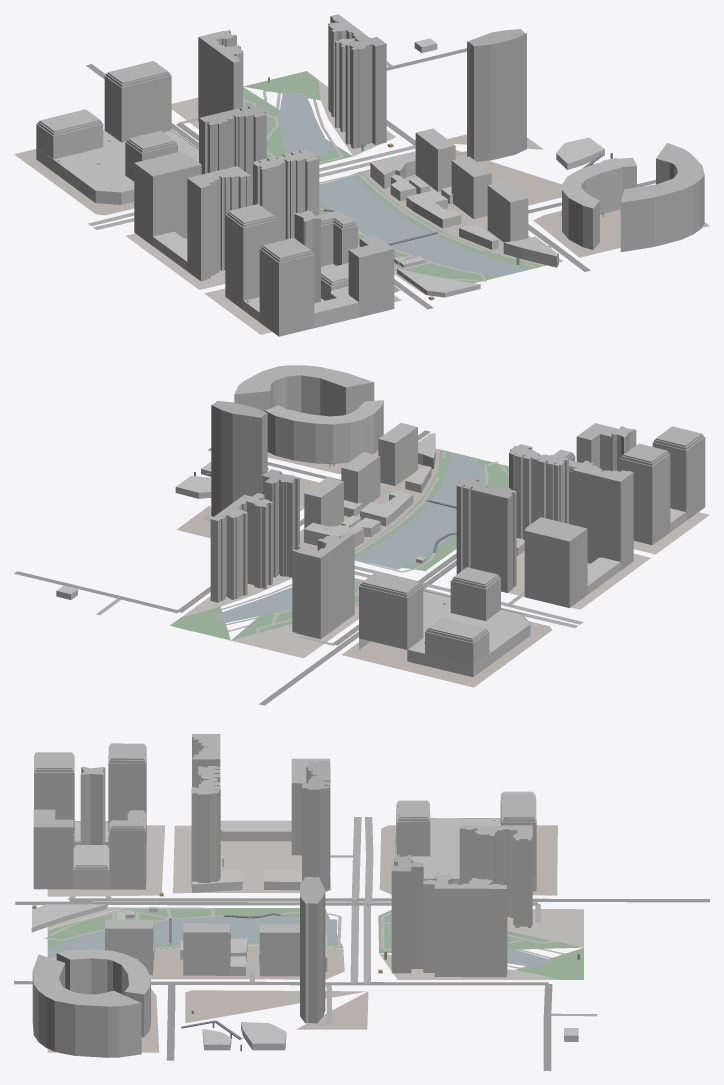
The picture shows the model from 3 angles, top to bottom: view 1: azimuth 30°, elevation 25°; view 2: azimuth 150°, elevation 25°; view 3: azimuth 270°, elevation 25°; orthographic projection. The views are drawn at different scales.
Size of the model in its own units: 556 by 124 by 649.
